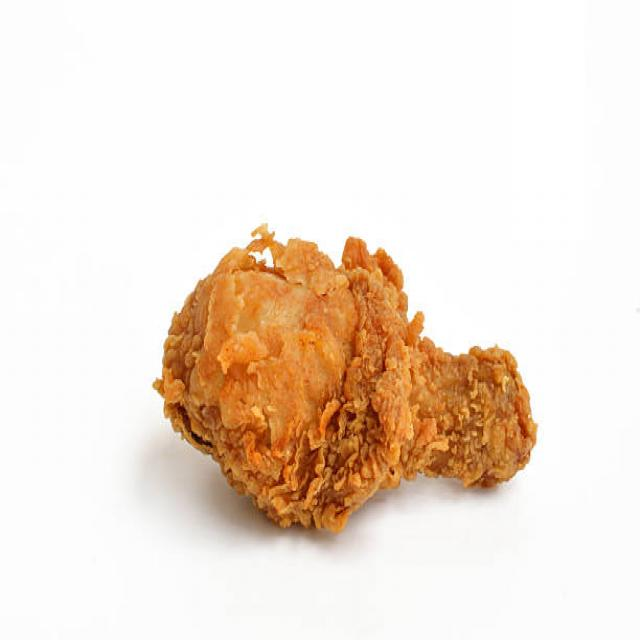Chicken: (154, 221, 546, 535)
